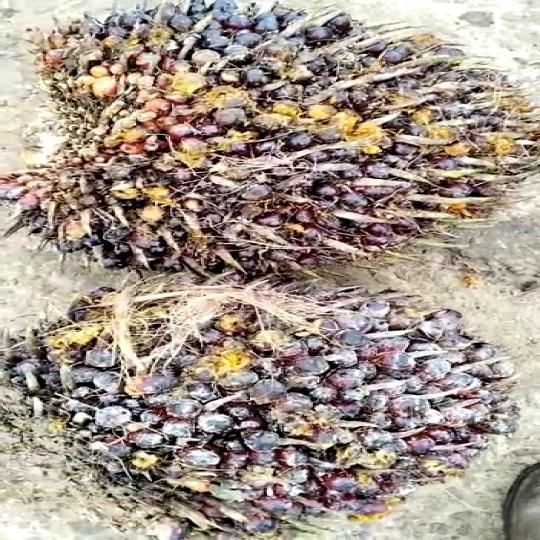kurang masak: (0, 11, 528, 296), (0, 284, 528, 534)
